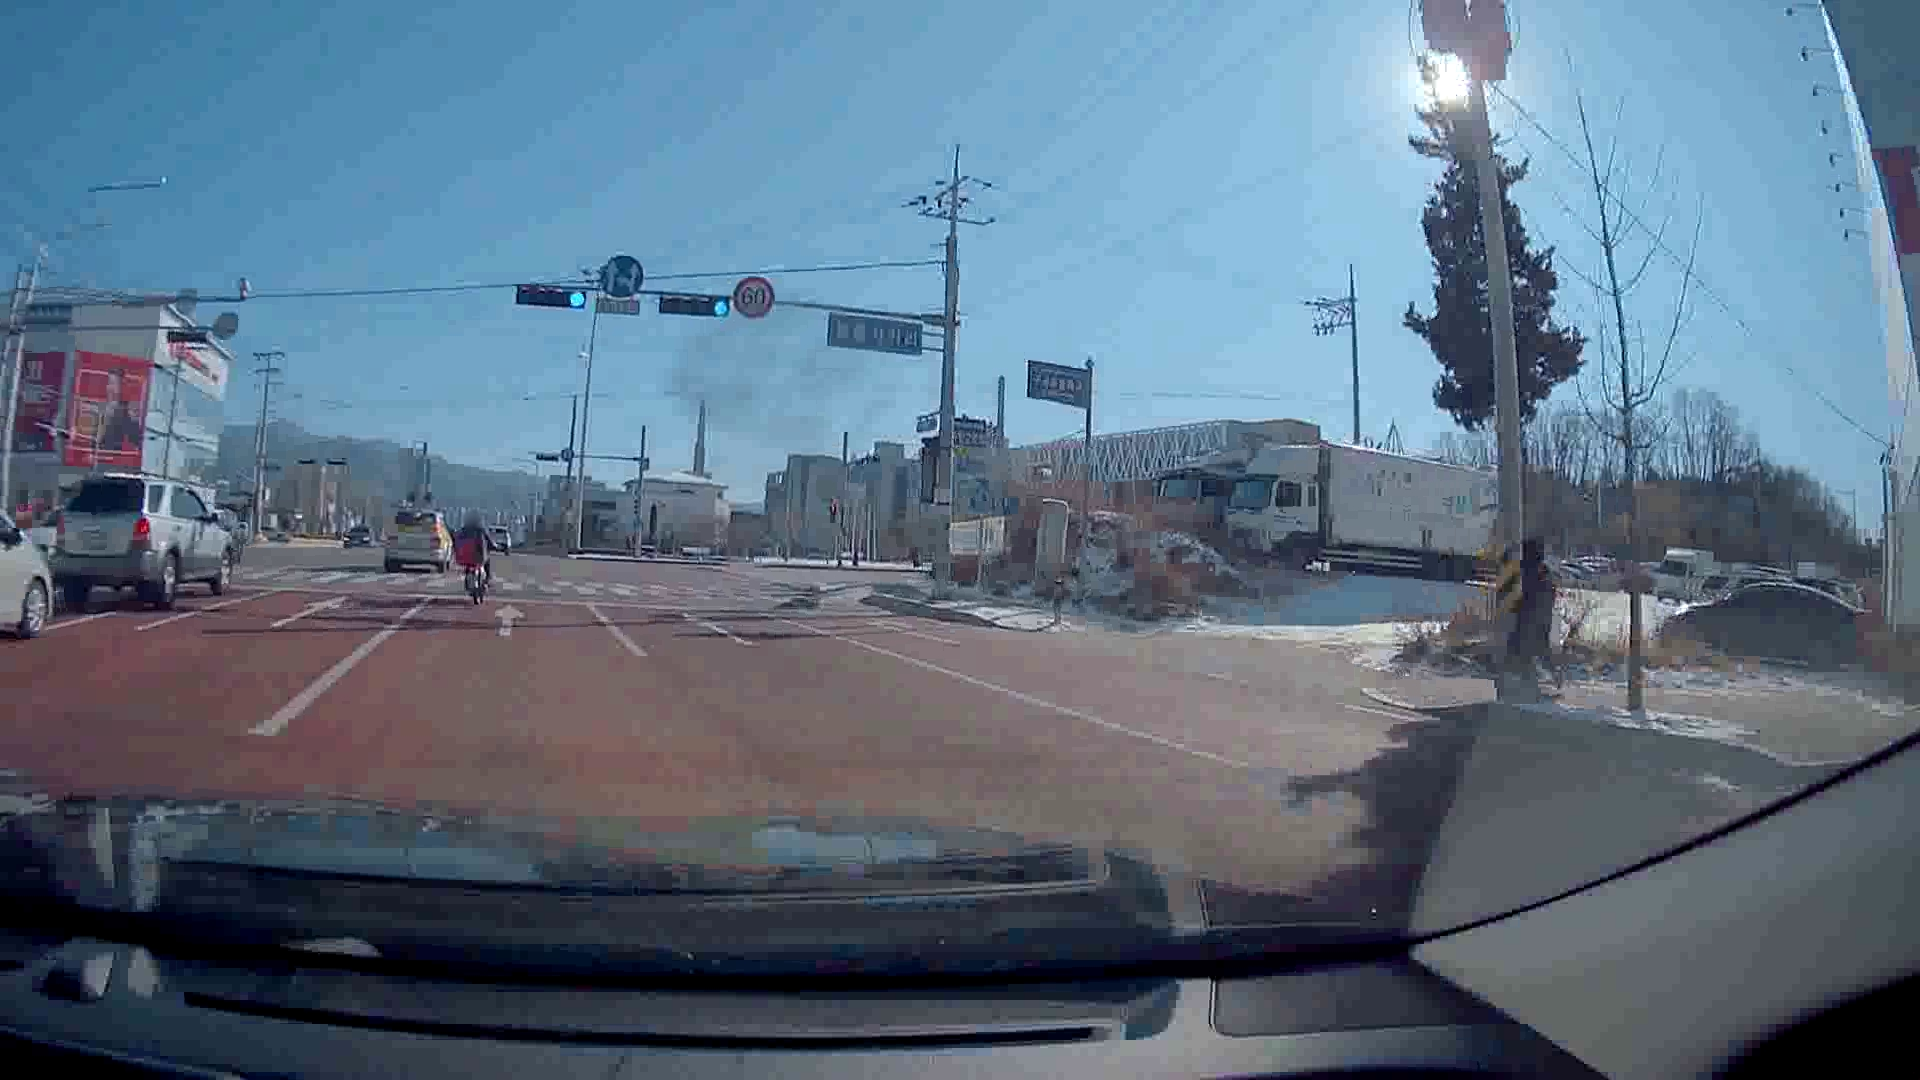trafficLight: (655, 293, 727, 320), (518, 289, 585, 311)
trafficSignCircle: (597, 255, 644, 303), (735, 272, 777, 320)
